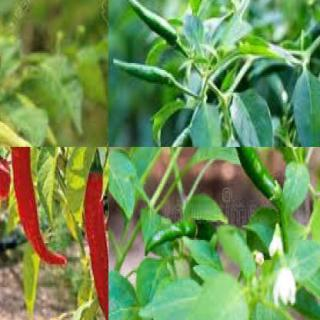green_chilli: (172, 147, 283, 206), (121, 0, 180, 52), (143, 216, 200, 256), (112, 56, 175, 92), (0, 102, 33, 146), (159, 125, 192, 146)
